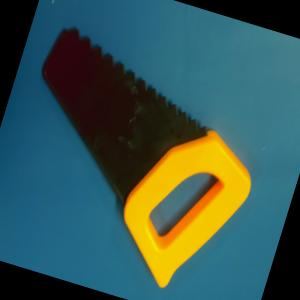serrote: (0, 22, 281, 300)
